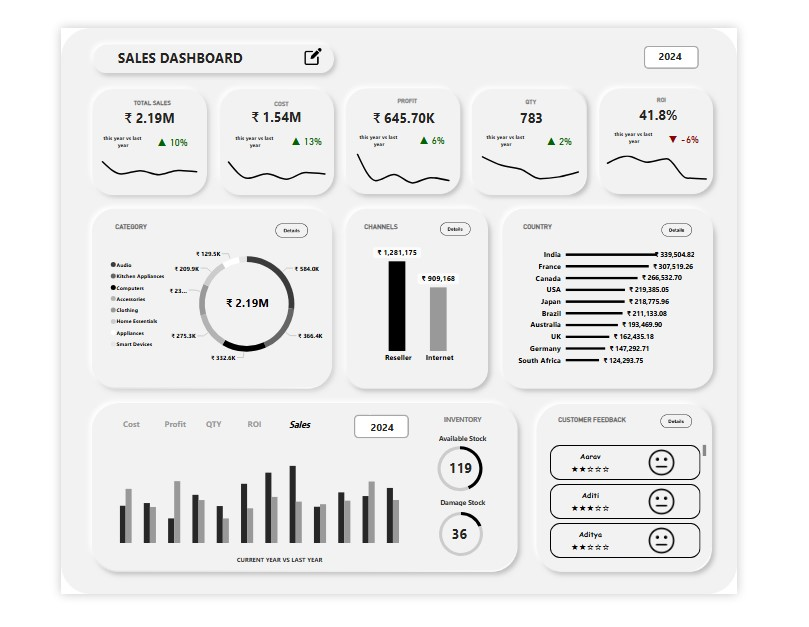

Layout of this report page (visuals, bound fields, positions):
{"tool":"powerbi","page":{"name":"SALES DASHBOARD","canvas":[1352,1131],"ordinal":0},"visuals":[{"type":"donutChart","fields":{"Y":["METRIX PARAMETER.damage","METRIX PARAMETER.total stock"]},"box":[729.6,952,140,120],"z":0},{"type":"textbox","box":[672.5,933.2,262.5,36.2],"z":1000},{"type":"textbox","box":[686.8,805.7,233.8,27.5],"z":2000},{"type":"textbox","box":[88,24,364,104],"z":3000},{"type":"lineChart","fields":{"Category":["calender.year"],"Y":["PeriodSelector.Total Sales Selected"]},"box":[67.3,237.4,256,81],"z":4000},{"type":"lineChart","fields":{"Category":["calender.year"],"Y":["PeriodSelector.Total cost Selected"]},"box":[320.7,240.7,261.4,81.4],"z":5000},{"type":"lineChart","fields":{"Category":["calender.year"],"Y":["PeriodSelector.Total profit Selected"]},"box":[577.7,237.3,249.3,81.4],"z":6000},{"type":"lineChart","fields":{"Category":["calender.year"],"Y":["PeriodSelector.qty Selected"]},"box":[827,236,260,86],"z":7000},{"type":"lineChart","fields":{"Category":["calender.year"],"Y":["PeriodSelector.Total ROI Selected"]},"box":[1078,242,267,75],"z":8000},{"type":"image","box":[482,32,44,50],"z":9000},{"type":"textbox","box":[329.3,135,216.4,70],"z":10000},{"type":"textbox","box":[129.1,134.3,102.1,71.4],"z":11000},{"type":"textbox","box":[577.9,130.9,226,72],"z":12000},{"type":"textbox","box":[1089.5,128.7,216.4,72.1],"z":13000},{"type":"donutChart","fields":{"Y":["_measures UNIT.tol unit price"],"Category":["main.product_catagory"]},"box":[94,404,438,296],"z":14000},{"type":"lineClusteredColumnComboChart","fields":{"Y":["_measures UNIT.tol unit price"],"Category":["main.channel_name"]},"box":[575.7,425.7,280,254],"z":15000},{"type":"textbox","box":[976.2,767.5,230,77.5],"z":16000},{"type":"card","fields":{"Values":["_measures UNIT.tol unit price"]},"box":[286.2,516.2,173.8,71.2],"z":17000},{"type":"barChart","fields":{"Y":["_measures UNIT.tol unit price"],"Category":["main.country_name"]},"box":[908,428,364,254],"z":18000},{"type":"advancedSlicerVisual","fields":{"Values":["main.customer_name"],"Label":["Min(main.C STAR)"]},"box":[972.9,828.6,324.3,237.1],"z":19000},{"type":"card","fields":{"Values":["METRIX PARAMETER.available"]},"box":[745.1,849.4,106,62],"z":20000},{"type":"card","fields":{"Values":["METRIX PARAMETER.damage"]},"box":[737.6,988,118,50],"z":21000},{"type":"clusteredColumnChart","fields":{"Category":["calender.month_name"],"Y":["MetricButtons.Selected Metric CY","MetricButtons.Selected Metric LY"]},"box":[112,840,570,196],"z":22000},{"type":"image","box":[420,385,83.8,37.5],"z":23000},{"type":"textbox","box":[331.2,1047.5,210,36.2],"z":24000},{"type":"textbox","box":[702.2,767.8,202.2,34.4],"z":25000},{"type":"donutChart","fields":{"Y":["METRIX PARAMETER.available","METRIX PARAMETER.total stock"]},"box":[718,819.4,160,122.5],"z":26000},{"type":"textbox","box":[826.1,132.2,224.3,64.3],"z":27000},{"type":"image","box":[1190,385,83.8,36.2],"z":28000},{"type":"image","box":[746.7,383.7,84,36],"z":29000},{"type":"card","fields":{"Values":["PeriodSelector.Total profit Selected"]},"box":[575.5,153.3,218.8,53.8],"z":30000},{"type":"card","fields":{"Values":["PeriodSelector.Total profit s %"]},"box":[693.5,200.6,88.9,52.2],"z":31000},{"type":"card","fields":{"Values":["PeriodSelector.Total Sales title"]},"box":[581,195.5,112,58],"z":32000},{"type":"card","fields":{"Values":["PeriodSelector.Total cost Selected"]},"box":[316,152,230,54],"z":33000},{"type":"card","fields":{"Values":["PeriodSelector.Total Sales Selected"]},"box":[67,153.6,218.6,53.6],"z":34000},{"type":"card","fields":{"Values":["PeriodSelector.qty Selected"]},"box":[832.5,154.2,218,54],"z":35000},{"type":"card","fields":{"Values":["PeriodSelector.Total ROI Selected"]},"box":[1078.1,148,233.6,53.6],"z":36000},{"type":"card","fields":{"Values":["PeriodSelector.Total Sales title"]},"box":[331.3,197,112,58],"z":37000},{"type":"card","fields":{"Values":["PeriodSelector.Total Sales title"]},"box":[68.3,198.4,112,58],"z":38000},{"type":"card","fields":{"Values":["PeriodSelector.Total Sales title"]},"box":[1090.1,189.9,112,58],"z":39000},{"type":"card","fields":{"Values":["PeriodSelector.Total Sales title"]},"box":[834.5,196.2,112,58],"z":40000},{"type":"card","fields":{"Values":["PeriodSelector.Total ROI  % Selected"]},"box":[1193.6,195.7,95.5,52.7],"z":41000},{"type":"card","fields":{"Values":["PeriodSelector.qty Selected %"]},"box":[945,210,93.6,35.7],"z":42000},{"type":"card","fields":{"Values":["PeriodSelector.Total cost % Selected"]},"box":[444.3,200.7,87.1,52.9],"z":43000},{"type":"card","fields":{"Values":["PeriodSelector.Total Sales Selected %"]},"box":[180.5,201.2,83.6,52.7],"z":44000},{"type":"advancedSlicerVisual","fields":{"Values":["MetricButtons.Metric"]},"box":[106,754,420,74],"z":45000},{"type":"tableEx","fields":{"Values":["calender.year"]},"box":[606.7,753.3,91.1,64.4],"z":46000},{"type":"image","box":[1188.6,767.1,84.3,37.1],"z":47000},{"type":"tableEx","fields":{"Values":["calender.year"]},"box":[1182,12,102,64],"z":48000},{"type":"textbox","box":[100,381.7,230,76.7],"z":49000},{"type":"textbox","box":[597.1,381.4,132.9,77.1],"z":50000},{"type":"textbox","box":[916.7,381.7,230,76.7],"z":51000}]}

Visuals, with their boxes on the page's 1352x1131 design canvas (x1, y1, x2, y2). These are canvas units, not pixel positions in the 809x627 screenshot, which may show the page scaled, cropped or inside an application window:
donutChart - METRIX PARAMETER.damage x METRIX PARAMETER.total stock: {"left": 730, "top": 952, "right": 870, "bottom": 1072}
textbox: {"left": 672, "top": 933, "right": 935, "bottom": 969}
textbox: {"left": 687, "top": 806, "right": 921, "bottom": 833}
textbox: {"left": 88, "top": 24, "right": 452, "bottom": 128}
lineChart - calender.year x PeriodSelector.Total Sales Selected: {"left": 67, "top": 237, "right": 323, "bottom": 318}
lineChart - calender.year x PeriodSelector.Total cost Selected: {"left": 321, "top": 241, "right": 582, "bottom": 322}
lineChart - calender.year x PeriodSelector.Total profit Selected: {"left": 578, "top": 237, "right": 827, "bottom": 319}
lineChart - calender.year x PeriodSelector.qty Selected: {"left": 827, "top": 236, "right": 1087, "bottom": 322}
lineChart - calender.year x PeriodSelector.Total ROI Selected: {"left": 1078, "top": 242, "right": 1345, "bottom": 317}
image: {"left": 482, "top": 32, "right": 526, "bottom": 82}
textbox: {"left": 329, "top": 135, "right": 546, "bottom": 205}
textbox: {"left": 129, "top": 134, "right": 231, "bottom": 206}
textbox: {"left": 578, "top": 131, "right": 804, "bottom": 203}
textbox: {"left": 1090, "top": 129, "right": 1306, "bottom": 201}
donutChart - _measures UNIT.tol unit price x main.product_catagory: {"left": 94, "top": 404, "right": 532, "bottom": 700}
lineClusteredColumnComboChart - _measures UNIT.tol unit price x main.channel_name: {"left": 576, "top": 426, "right": 856, "bottom": 680}
textbox: {"left": 976, "top": 768, "right": 1206, "bottom": 845}
card - _measures UNIT.tol unit price: {"left": 286, "top": 516, "right": 460, "bottom": 587}
barChart - _measures UNIT.tol unit price x main.country_name: {"left": 908, "top": 428, "right": 1272, "bottom": 682}
advancedSlicerVisual - main.customer_name x Min(main.C STAR): {"left": 973, "top": 829, "right": 1297, "bottom": 1066}
card - METRIX PARAMETER.available: {"left": 745, "top": 849, "right": 851, "bottom": 911}
card - METRIX PARAMETER.damage: {"left": 738, "top": 988, "right": 856, "bottom": 1038}
clusteredColumnChart - calender.month_name x MetricButtons.Selected Metric CY: {"left": 112, "top": 840, "right": 682, "bottom": 1036}
image: {"left": 420, "top": 385, "right": 504, "bottom": 422}
textbox: {"left": 331, "top": 1048, "right": 541, "bottom": 1084}
textbox: {"left": 702, "top": 768, "right": 904, "bottom": 802}
donutChart - METRIX PARAMETER.available x METRIX PARAMETER.total stock: {"left": 718, "top": 819, "right": 878, "bottom": 942}
textbox: {"left": 826, "top": 132, "right": 1050, "bottom": 196}
image: {"left": 1190, "top": 385, "right": 1274, "bottom": 421}
image: {"left": 747, "top": 384, "right": 831, "bottom": 420}
card - PeriodSelector.Total profit Selected: {"left": 576, "top": 153, "right": 794, "bottom": 207}
card - PeriodSelector.Total profit s %: {"left": 694, "top": 201, "right": 782, "bottom": 253}
card - PeriodSelector.Total Sales title: {"left": 581, "top": 196, "right": 693, "bottom": 254}
card - PeriodSelector.Total cost Selected: {"left": 316, "top": 152, "right": 546, "bottom": 206}
card - PeriodSelector.Total Sales Selected: {"left": 67, "top": 154, "right": 286, "bottom": 207}
card - PeriodSelector.qty Selected: {"left": 832, "top": 154, "right": 1050, "bottom": 208}
card - PeriodSelector.Total ROI Selected: {"left": 1078, "top": 148, "right": 1312, "bottom": 202}
card - PeriodSelector.Total Sales title: {"left": 331, "top": 197, "right": 443, "bottom": 255}
card - PeriodSelector.Total Sales title: {"left": 68, "top": 198, "right": 180, "bottom": 256}
card - PeriodSelector.Total Sales title: {"left": 1090, "top": 190, "right": 1202, "bottom": 248}
card - PeriodSelector.Total Sales title: {"left": 834, "top": 196, "right": 946, "bottom": 254}
card - PeriodSelector.Total ROI  % Selected: {"left": 1194, "top": 196, "right": 1289, "bottom": 248}
card - PeriodSelector.qty Selected %: {"left": 945, "top": 210, "right": 1039, "bottom": 246}
card - PeriodSelector.Total cost % Selected: {"left": 444, "top": 201, "right": 531, "bottom": 254}
card - PeriodSelector.Total Sales Selected %: {"left": 180, "top": 201, "right": 264, "bottom": 254}
advancedSlicerVisual - MetricButtons.Metric: {"left": 106, "top": 754, "right": 526, "bottom": 828}
tableEx - calender.year: {"left": 607, "top": 753, "right": 698, "bottom": 818}
image: {"left": 1189, "top": 767, "right": 1273, "bottom": 804}
tableEx - calender.year: {"left": 1182, "top": 12, "right": 1284, "bottom": 76}
textbox: {"left": 100, "top": 382, "right": 330, "bottom": 458}
textbox: {"left": 597, "top": 381, "right": 730, "bottom": 458}
textbox: {"left": 917, "top": 382, "right": 1147, "bottom": 458}
